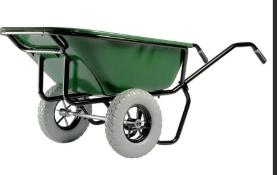BROUETTE: (0, 23, 277, 166)
